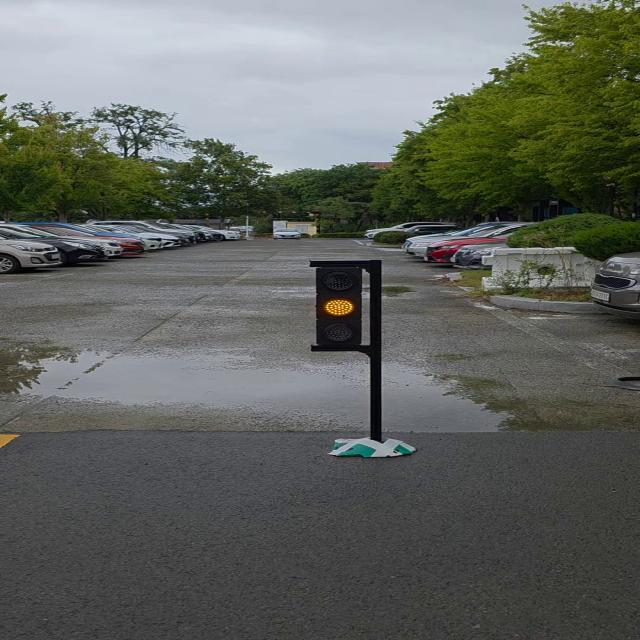yellow: (318, 263, 363, 350)
